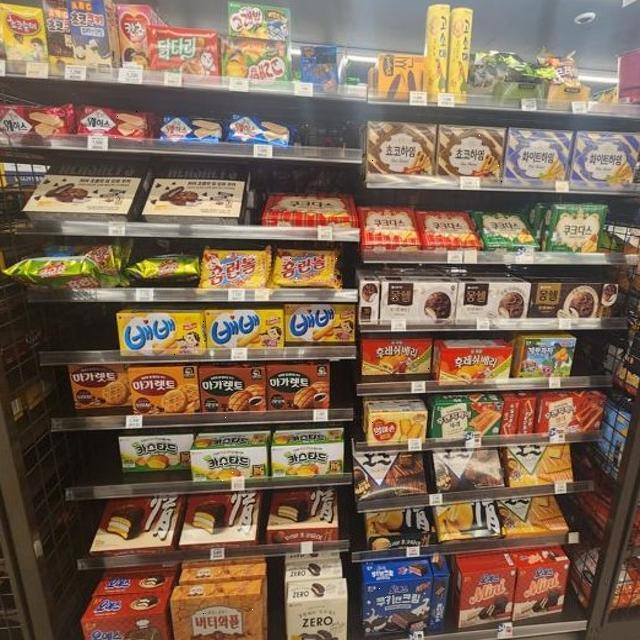product: (176, 588, 259, 640), (369, 119, 433, 186), (365, 578, 433, 639), (204, 306, 286, 356), (268, 364, 334, 425), (128, 364, 197, 422), (198, 366, 270, 421), (118, 312, 205, 357), (506, 128, 574, 185), (578, 127, 637, 192), (382, 282, 457, 331), (437, 128, 503, 182), (459, 282, 530, 332), (540, 385, 609, 436), (76, 104, 152, 150), (545, 205, 604, 260), (273, 444, 347, 485), (199, 249, 267, 293), (436, 402, 506, 444), (361, 340, 434, 380), (287, 302, 353, 346), (193, 448, 271, 485), (270, 250, 338, 291), (447, 348, 515, 385), (157, 110, 223, 144), (370, 417, 427, 448)
